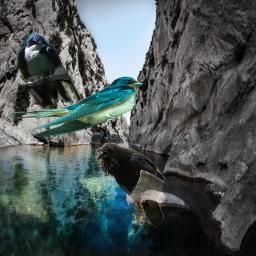Crow: (95, 143, 165, 228)
Swallow: (6, 76, 143, 138), (15, 32, 83, 114)
